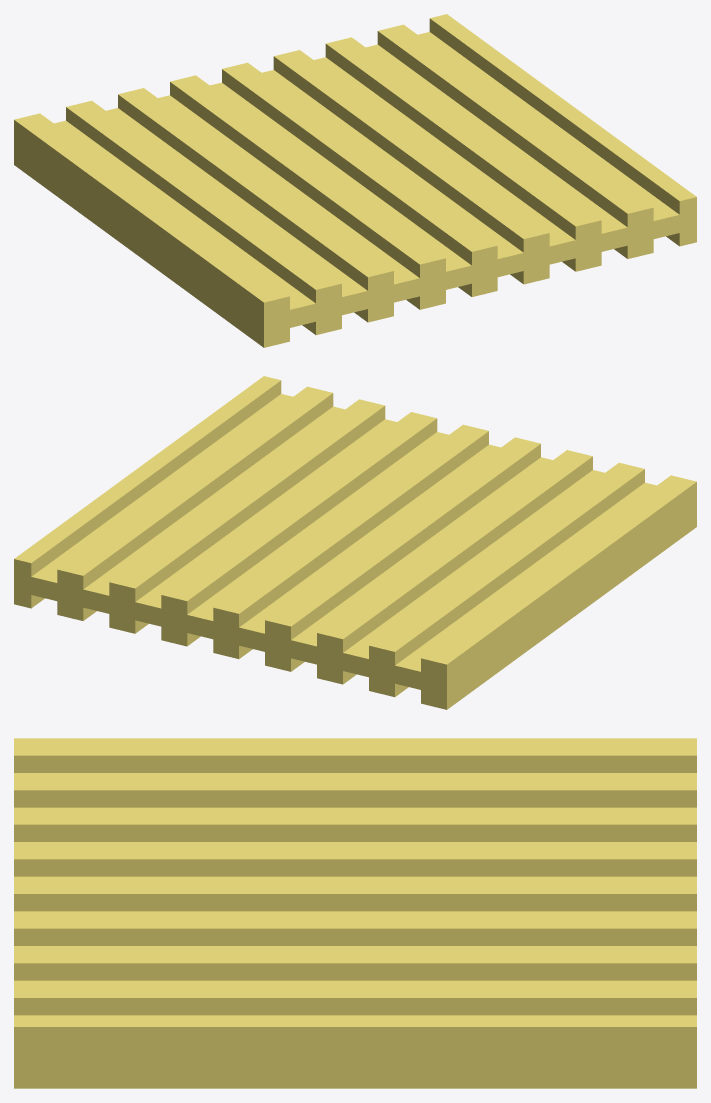
Rendered from LinearPolarizer.fbx.
The picture shows the model from 3 angles, top to bottom: view 1: azimuth 30°, elevation 25°; view 2: azimuth 150°, elevation 25°; view 3: azimuth 270°, elevation 25°; orthographic projection. The views are drawn at different scales.
Parts seen in each view (by area): view 1: 镜向1; view 2: 镜向1; view 3: 镜向1.
Boxes of the visible parts, box(x1,y1,x2,y2) form: 镜向1: box(14, 14, 696, 347); 镜向1: box(14, 376, 696, 709); 镜向1: box(14, 738, 696, 1088).
Bounding box in the file's own units: 3.94 × 0.3937 × 3.94.
